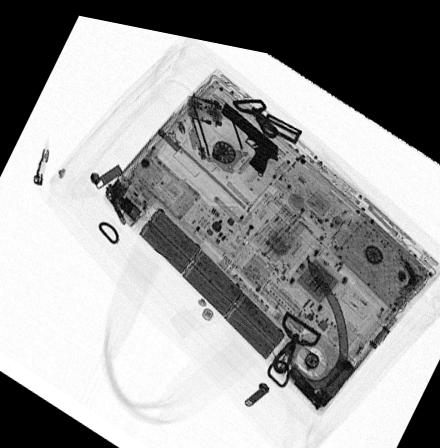Gun: (221, 94, 279, 167)
